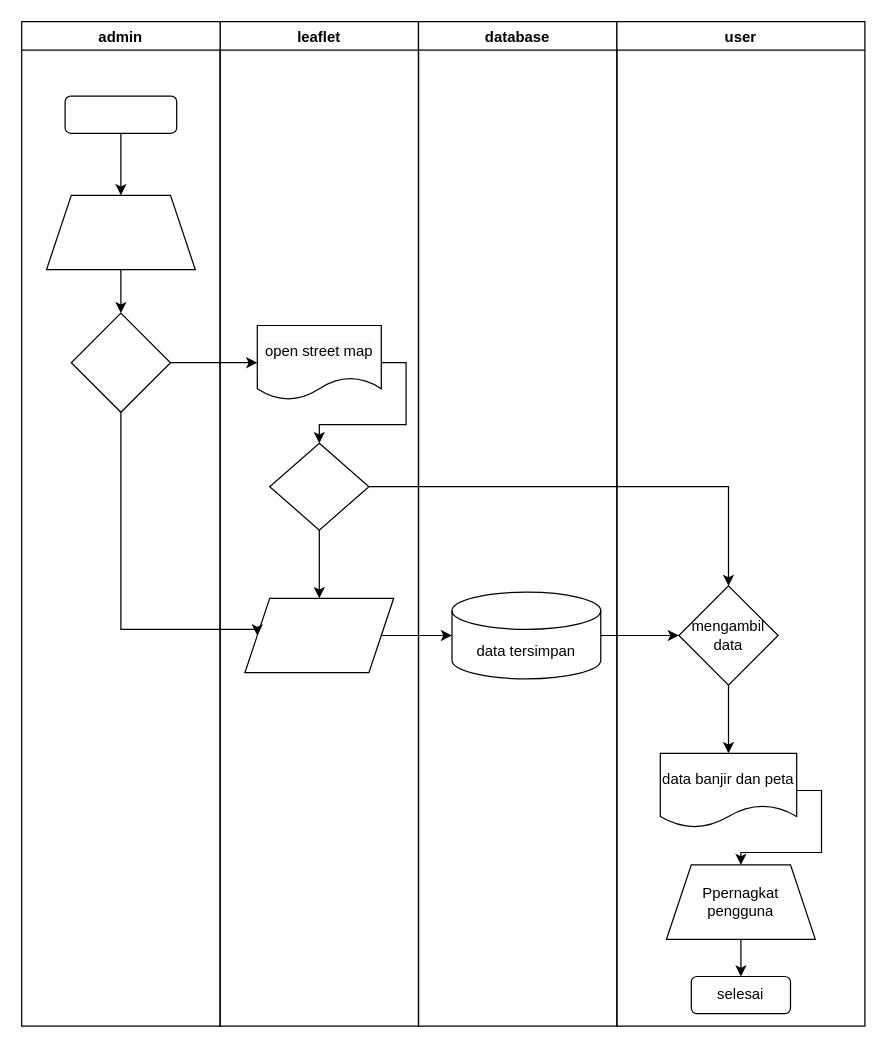
Some shapes in this 887 by 1048 pixel diagram are drawn without their labels. The shapes that lost their labels are listed below. From the top down, each one's box as (x1, y1, x2, y2) in pixels, then its label:
(64, 95, 177, 133): mulai
(45, 194, 195, 270): menambahkkan data
(70, 312, 170, 412): simpan data
(268, 442, 369, 530): data peta
(244, 597, 394, 673): data banjir
